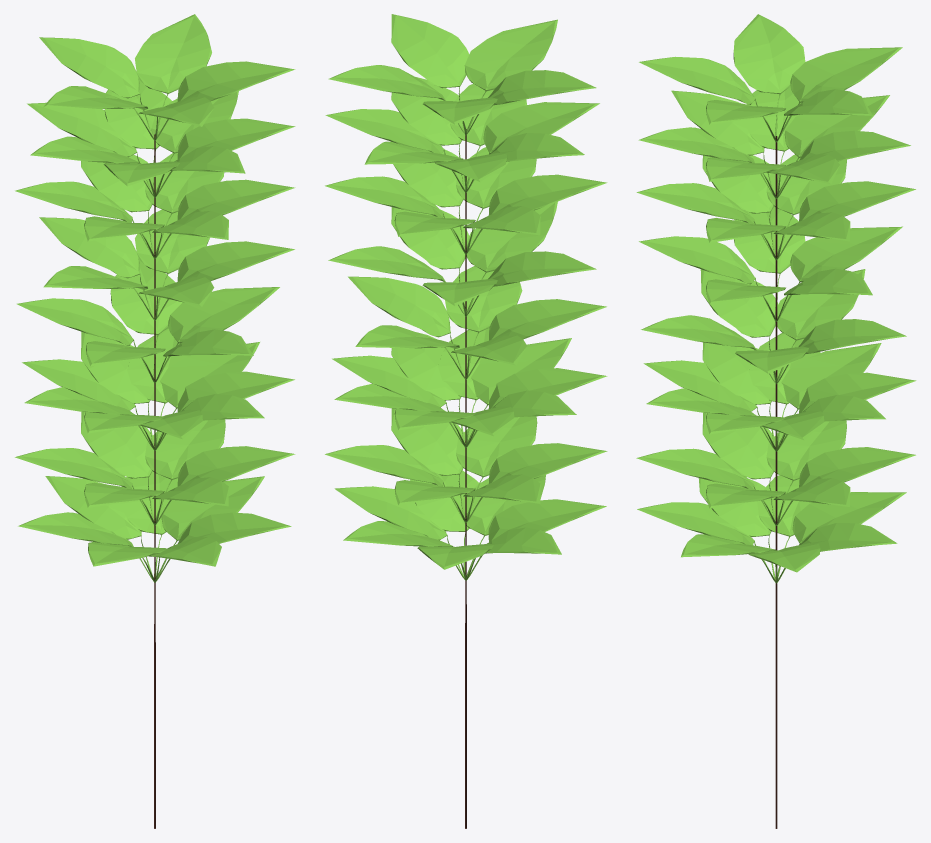
File: plant3.fbx
3 renders of one model, left to right at view 1: azimuth 30°, elevation 25°; view 2: azimuth 150°, elevation 25°; view 3: azimuth 270°, elevation 25°, orthographic.
Visible parts, largest first — view 1: Circle.031; view 2: Circle.031; view 3: Circle.031.
Boxes of the visible parts, left/top/right/bottom form: Circle.031: left=15, top=14, right=295, bottom=828; Circle.031: left=325, top=14, right=607, bottom=828; Circle.031: left=636, top=14, right=916, bottom=828.
Bounding box in the file's own units: 77.26 × 230 × 77.35.
